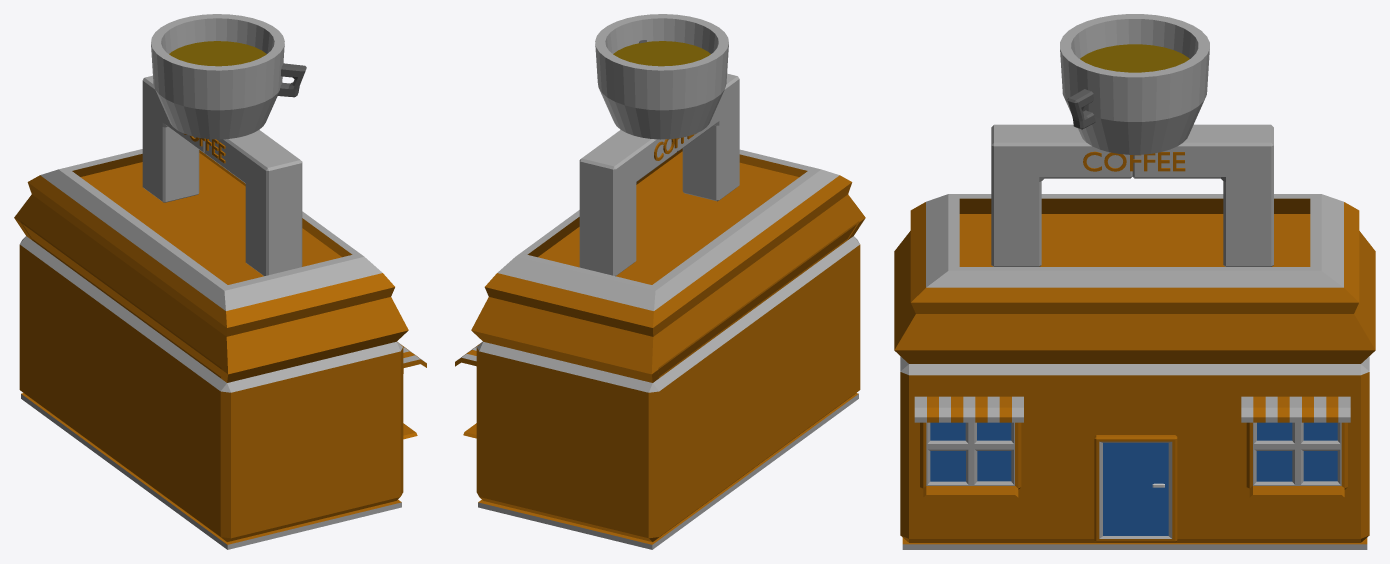
Rendered from COFFEE_COLOR.005.glb.
3 views of the same model, side by side, from view 1: azimuth 30°, elevation 25°; view 2: azimuth 150°, elevation 25°; view 3: azimuth 270°, elevation 25° (orthographic). The views are drawn at different scales.
Parts seen in each view (by area): view 1: COFFEE_COLOR.005_0; view 2: COFFEE_COLOR.005_0; view 3: COFFEE_COLOR.005_0.
Boxes of the visible parts, left/top/right/bottom form: COFFEE_COLOR.005_0: left=14, top=14, right=426, bottom=549; COFFEE_COLOR.005_0: left=455, top=14, right=865, bottom=549; COFFEE_COLOR.005_0: left=894, top=14, right=1375, bottom=549.
Size of the model in its own units: 2.77 by 5.18 by 4.91.
Materials: 1 (1 with a texture image).
